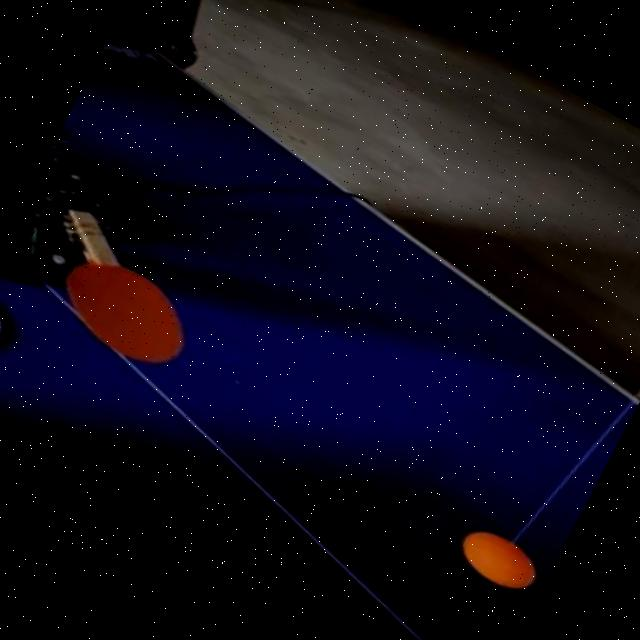ping-pong-ball: (453, 521, 539, 595)
